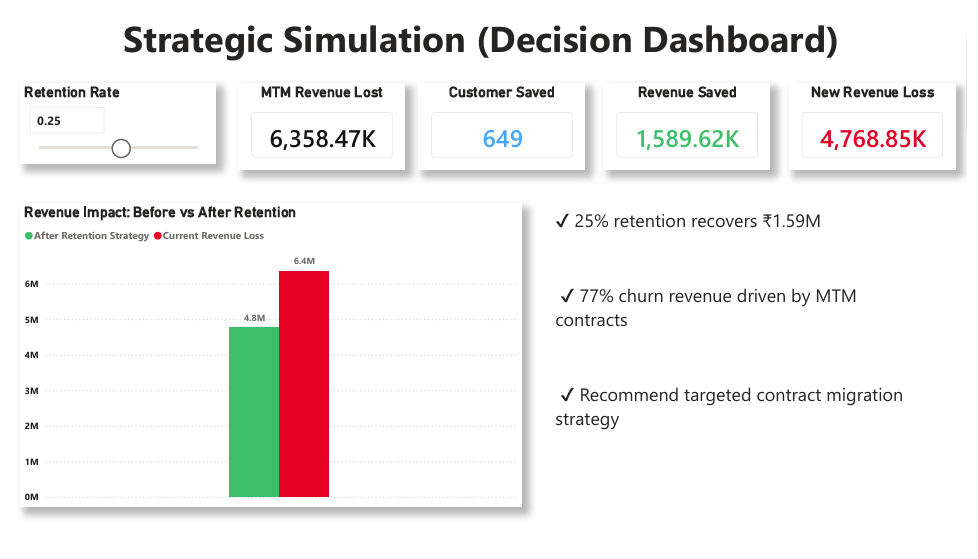

This screenshot's page, from the dashboard's own definition file:
{"tool":"powerbi","page":{"name":"Page 3","canvas":[1280,720],"ordinal":2},"visuals":[{"type":"slicer","title":"Retention Rate","fields":{"Values":["Retention Rate.Retention Rate"]},"box":[18.5,99.1,260.4,107.5],"z":0},{"type":"cardVisual","title":"MTM Revenue Lost","fields":{"Data":["telecom_customer_churn_dataset.MTM Revenue Lost"]},"box":[309.1,99.1,221.7,115.9],"z":1},{"type":"cardVisual","title":"Customer Saved","fields":{"Data":["telecom_customer_churn_dataset.Customers Saved"]},"box":[549.3,99.1,221.7,115.9],"z":2},{"type":"cardVisual","title":"Revenue Saved","fields":{"Data":["telecom_customer_churn_dataset.Revenue Saved"]},"box":[796.2,99.1,221.7,115.9],"z":3},{"type":"cardVisual","title":"New Revenue Loss","fields":{"Data":["telecom_customer_churn_dataset.New Revenue Loss"]},"box":[1043.1,99.1,221.7,115.9],"z":4},{"type":"clusteredColumnChart","title":"Revenue Impact: Before vs After Retention","fields":{"Y":["telecom_customer_churn_dataset.Improved Scenario","telecom_customer_churn_dataset.Current Scenario"]},"box":[18.5,260.4,668.6,404.8],"z":5},{"type":"textbox","box":[725.7,260.4,488.8,404.8],"z":6},{"type":"textbox","box":[149.5,0,1004.5,73.9],"z":7}]}

Visuals, with their boxes in screenshot pixels (x1, y1, x2, y2), scaled from the page's 1280x720 canvas onto the 978x559 screenshot:
"Retention Rate" slicer: [x1=14, y1=77, x2=213, y2=160]
"MTM Revenue Lost" cardVisual: [x1=236, y1=77, x2=406, y2=167]
"Customer Saved" cardVisual: [x1=420, y1=77, x2=589, y2=167]
"Revenue Saved" cardVisual: [x1=608, y1=77, x2=778, y2=167]
"New Revenue Loss" cardVisual: [x1=797, y1=77, x2=966, y2=167]
"Revenue Impact: Before vs After Retention" clusteredColumnChart: [x1=14, y1=202, x2=525, y2=516]
textbox: [x1=554, y1=202, x2=928, y2=516]
textbox: [x1=114, y1=0, x2=882, y2=57]
